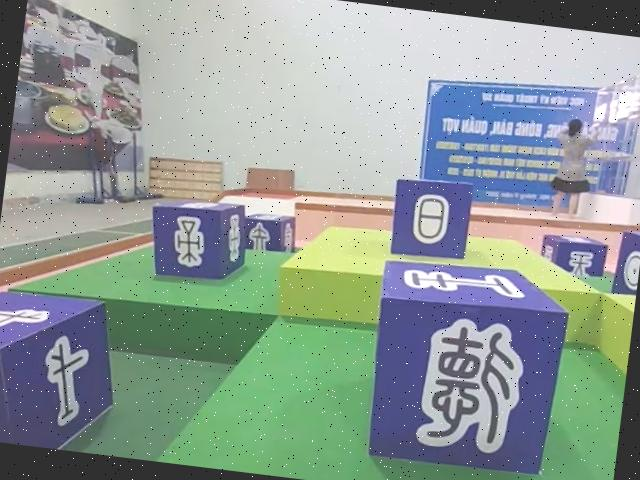R2 Fake Blue: (357, 247, 572, 480), (386, 173, 473, 263), (242, 210, 301, 255)
R2 Real Blue: (0, 285, 126, 455), (145, 193, 253, 286), (537, 233, 608, 281), (613, 228, 640, 297)
